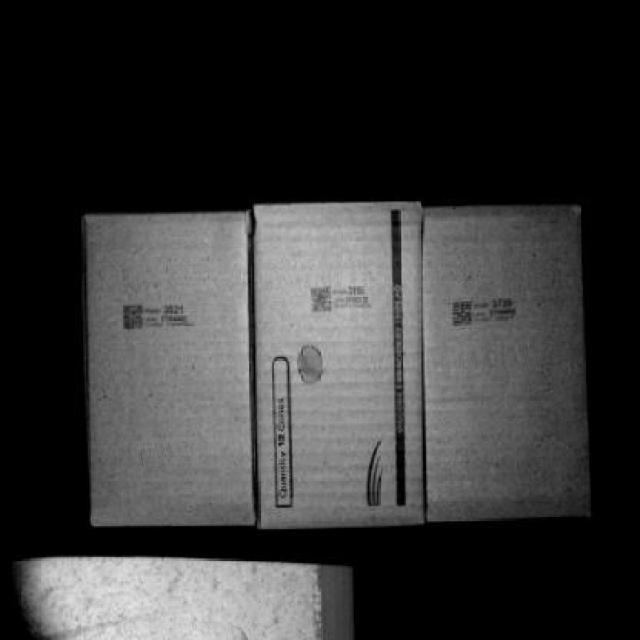box: (85, 204, 264, 527), (424, 200, 592, 522), (256, 212, 427, 526)
